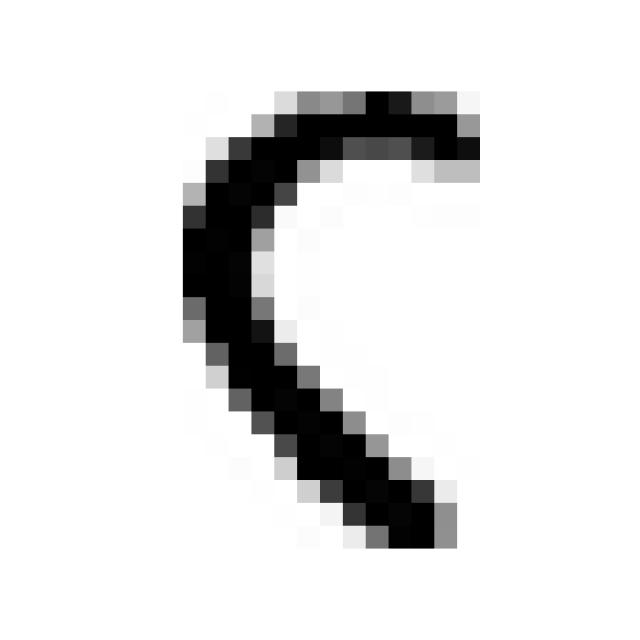2 -two-: (160, 62, 501, 572)
